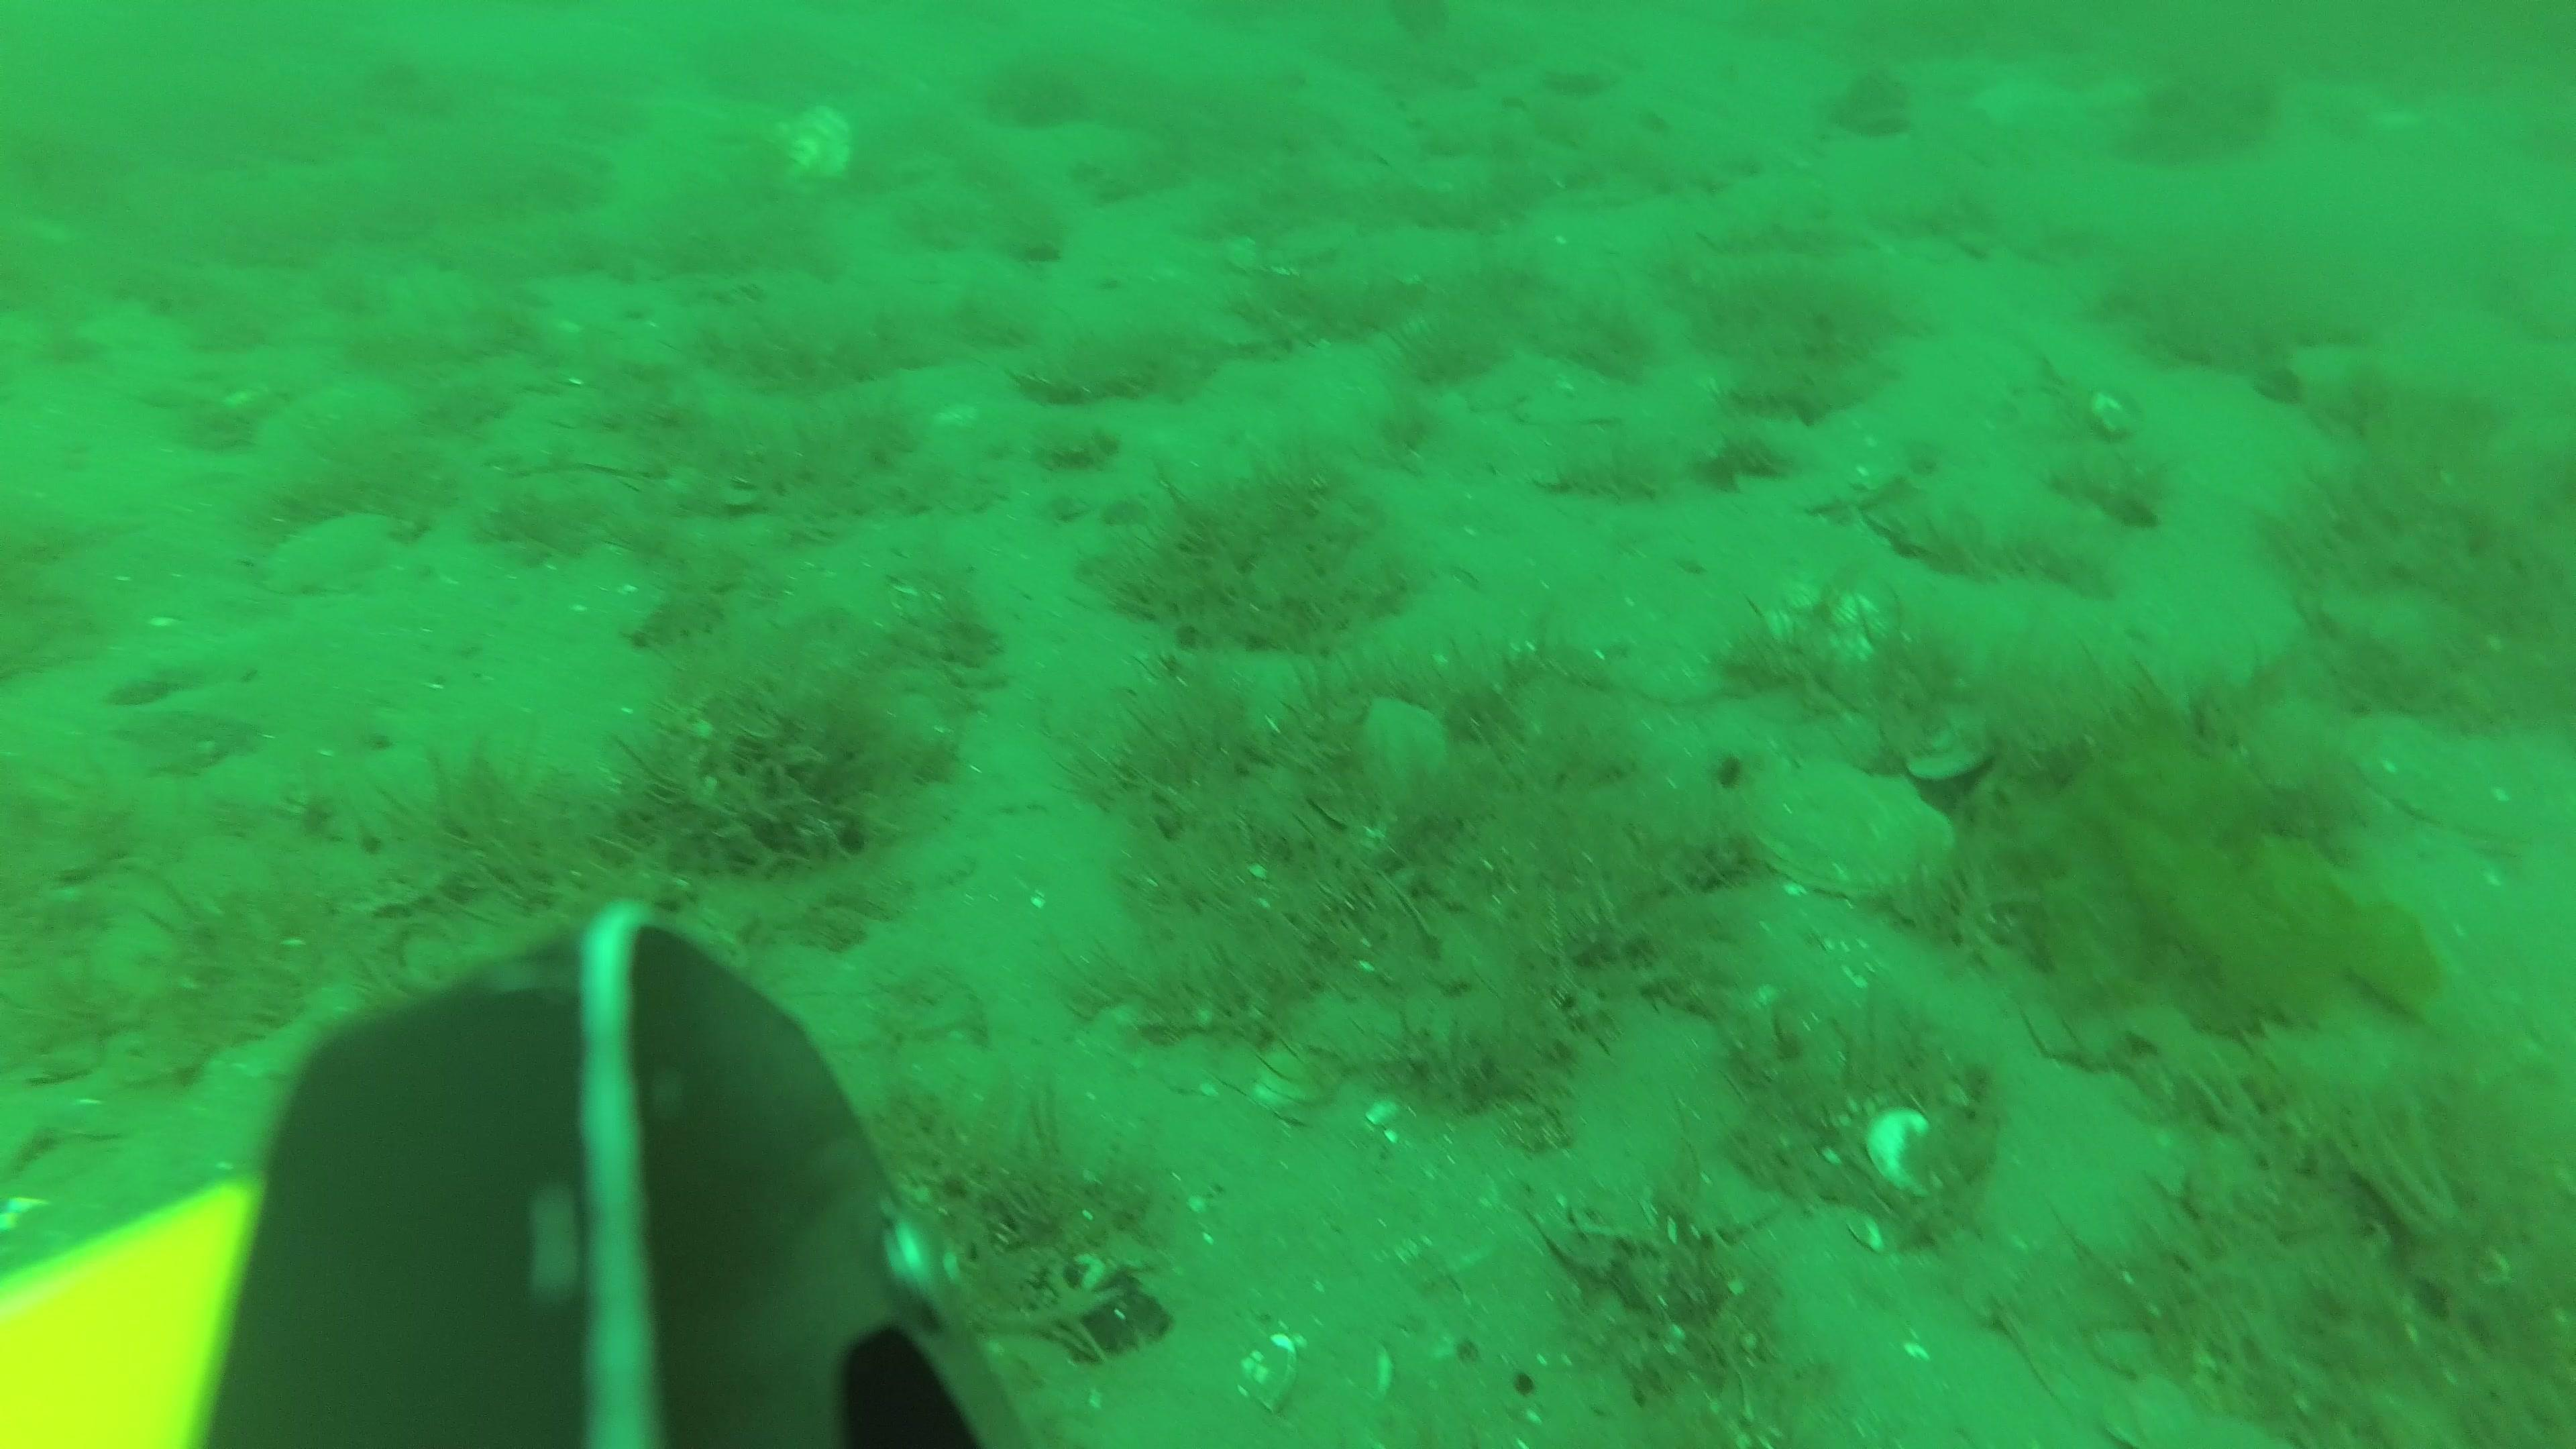scallop: (1753, 755, 1955, 902), (2350, 708, 2532, 837), (1306, 694, 1453, 830), (1769, 577, 1891, 669), (265, 518, 396, 596), (766, 104, 858, 200)
